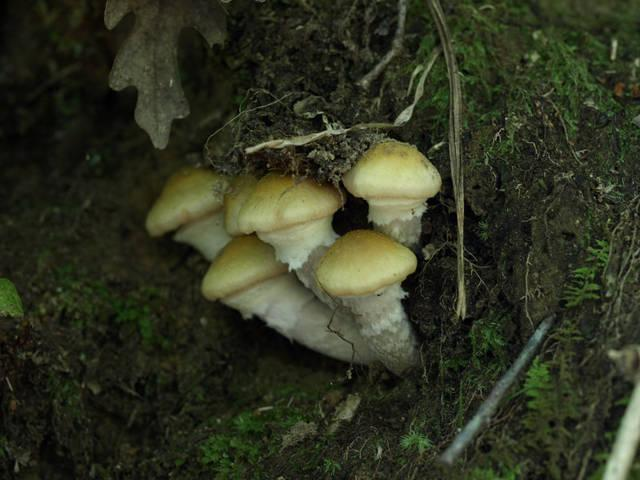Edible Mushroom: (150, 159, 339, 340), (314, 228, 421, 375), (341, 137, 442, 247)
